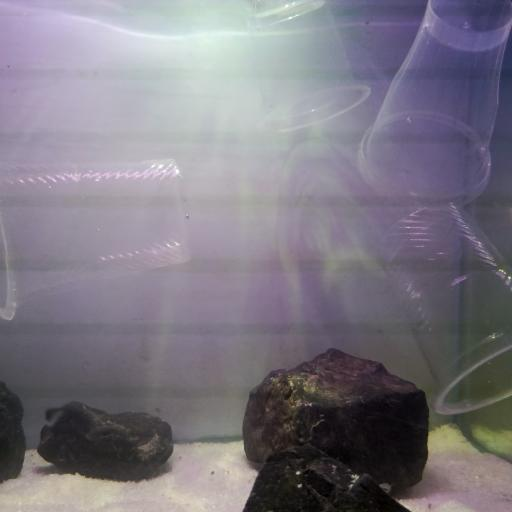plastic_cup: (355, 0, 512, 213), (0, 156, 193, 322), (373, 202, 512, 416), (246, 0, 373, 137)
